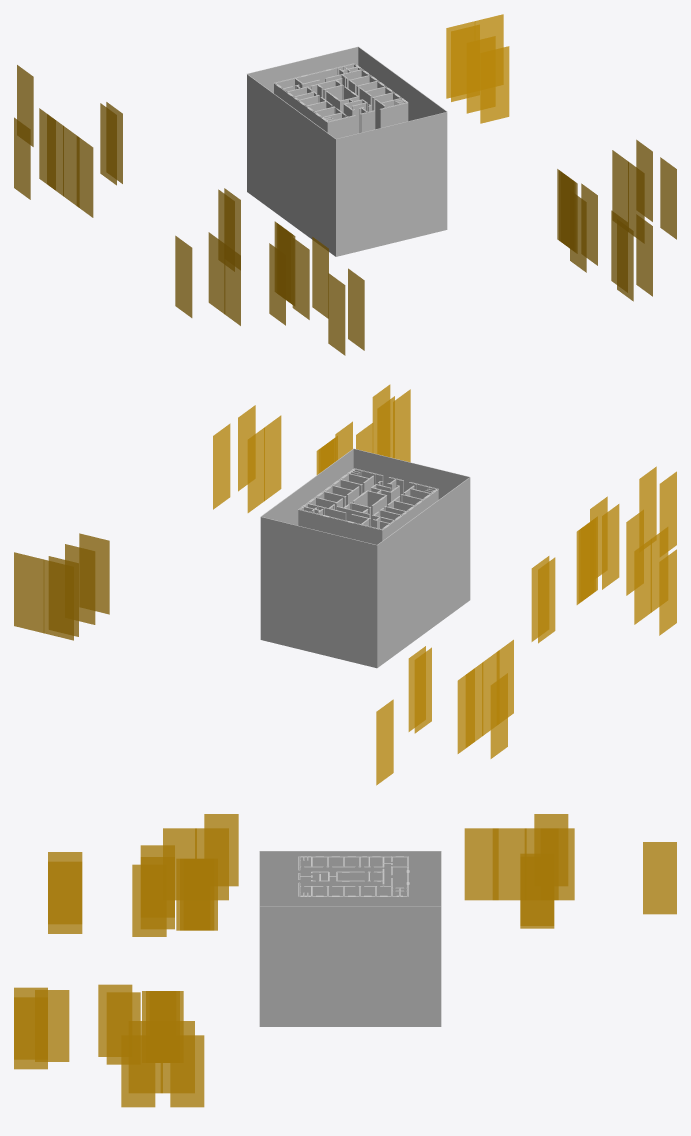
File: 1e234cf5-2928-4d39-a91c-8209e02ab8f4_no_roof.glb
The picture shows the model from 3 angles, top to bottom: view 1: azimuth 30°, elevation 25°; view 2: azimuth 150°, elevation 25°; view 3: azimuth 270°, elevation 25°; orthographic projection. The views are drawn at different scales.
Parts seen in each view (by area): view 1: doors, walls; view 2: walls, doors; view 3: doors, walls.
Boxes of the visible parts, left/top/right/bottom form: doors: left=14, top=14, right=676, bottom=355; walls: left=247, top=46, right=447, bottom=256; walls: left=260, top=448, right=470, bottom=668; doors: left=14, top=384, right=676, bottom=785; doors: left=14, top=814, right=676, bottom=1107; walls: left=259, top=851, right=441, bottom=1026.
Bounding box in the file's own units: 14.7 × 3.5 × 17.48.
